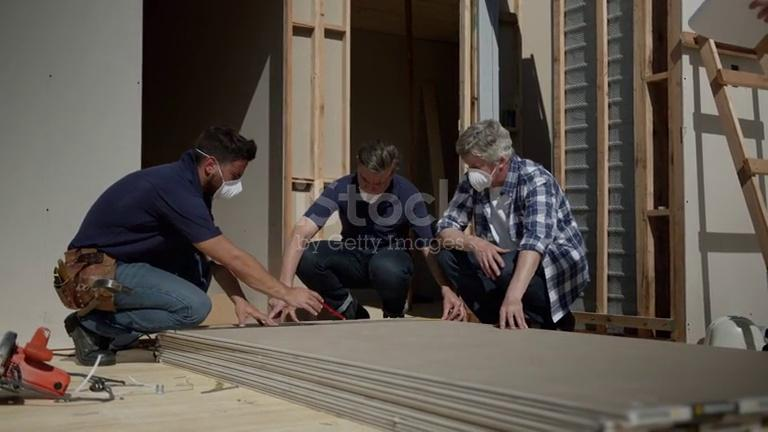mask: (467, 169, 497, 195), (356, 182, 392, 202), (214, 175, 242, 199)
person: (52, 124, 321, 368), (426, 120, 592, 332), (278, 141, 466, 321)
